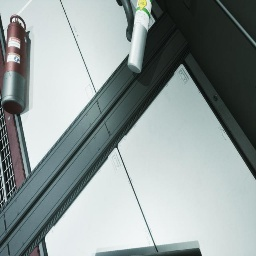0: (127, 0, 153, 73)
NitrogenTank ,: (1, 14, 27, 114)
